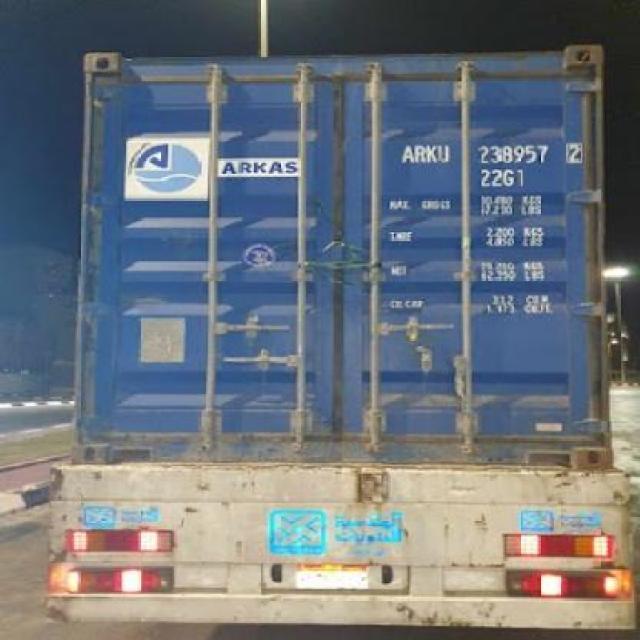ISO: (481, 168, 524, 190)
container_number: (405, 140, 573, 168)
